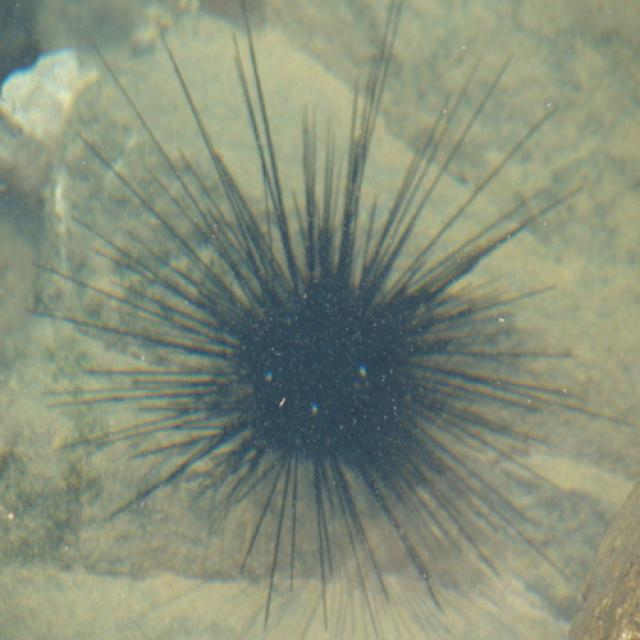Urchin: (23, 2, 639, 633)
